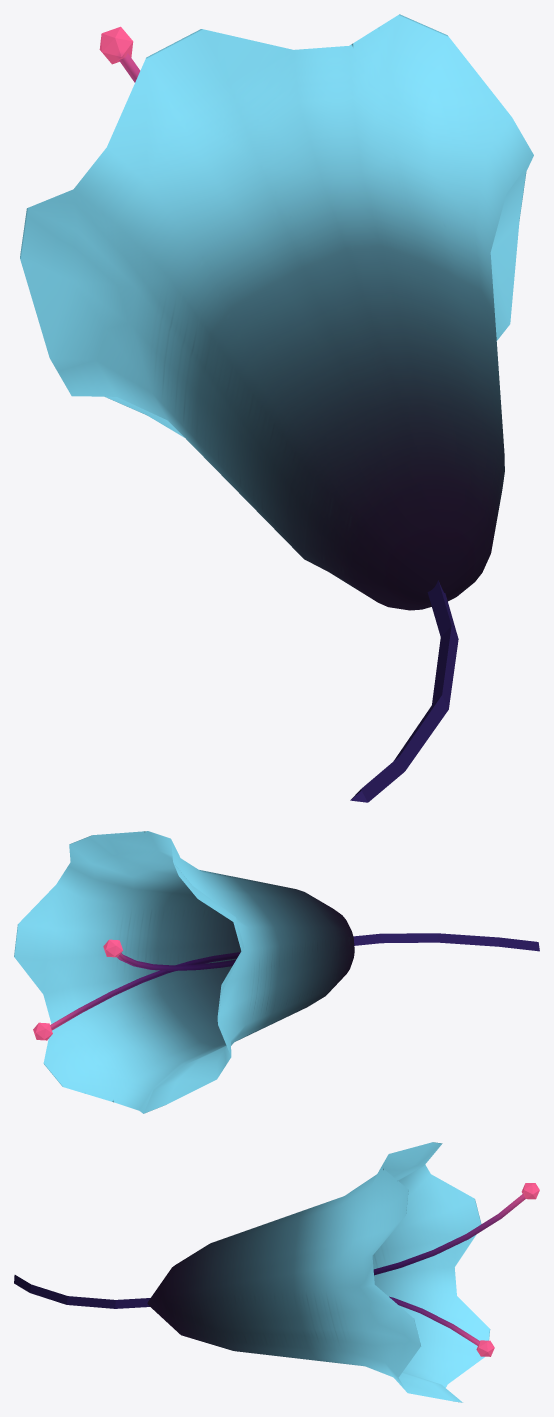
File: Cave_debris_flower.glb
The picture shows the model from 3 angles, top to bottom: view 1: azimuth 30°, elevation 25°; view 2: azimuth 150°, elevation 25°; view 3: azimuth 270°, elevation 25°; orthographic projection. The views are drawn at different scales.
Parts seen in each view (by area): view 1: Vine_Flower; view 2: Vine_Flower; view 3: Vine_Flower.
Part boxes in pixels (bbox=[...]): Vine_Flower: bbox=[20, 14, 533, 802]; Vine_Flower: bbox=[14, 831, 539, 1113]; Vine_Flower: bbox=[14, 1142, 539, 1402].
Size of the model in its own units: 0.4325 by 0.3355 by 0.689.
Materials: 3 (2 with a texture image).
